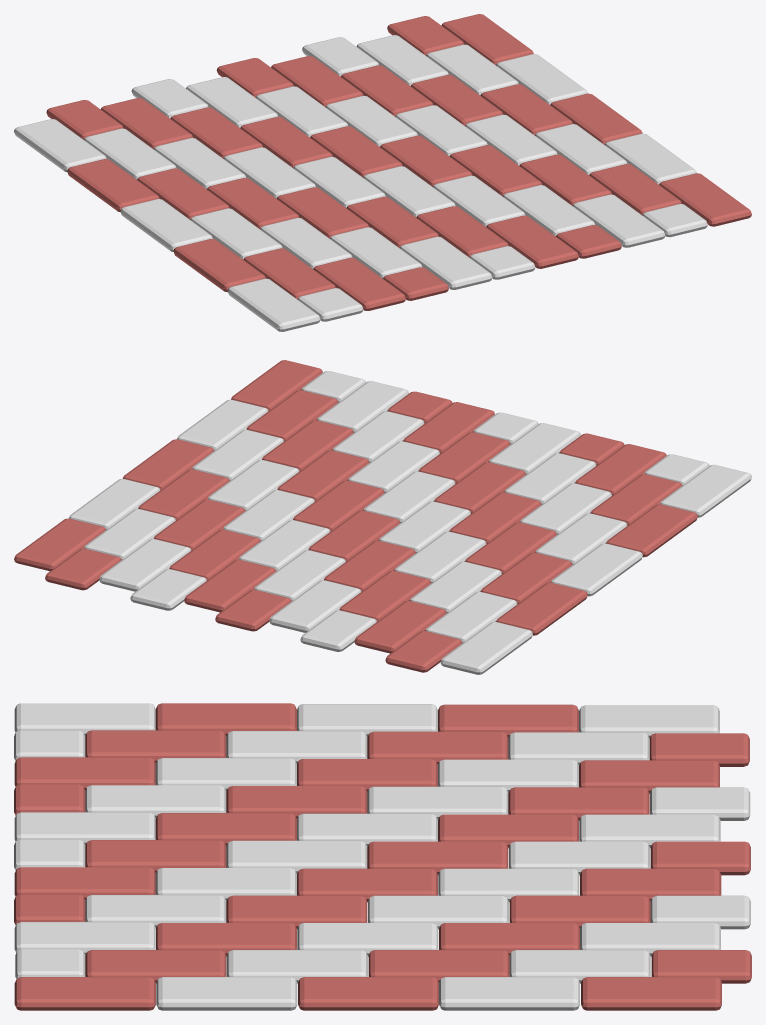
Rendered from floor03.fbx.
3 renders of one model, top to bottom at view 1: azimuth 30°, elevation 25°; view 2: azimuth 150°, elevation 25°; view 3: azimuth 270°, elevation 25°, orthographic. The views are drawn at different scales.
Visible parts, largest first — view 1: Plane.001, Plane.006, Plane.007, Plane.002, Plane.008, Plane.003, Plane.009, Plane.004, Plane.010, Plane.005; view 2: Plane.001, Plane.006, Plane.002, Plane.007, Plane.003, Plane.008, Plane.004, Plane.009, Plane.005, Plane.010; view 3: Plane.001, Plane.006, Plane.002, Plane.007, Plane.003, Plane.008, Plane.004, Plane.009, Plane.005, Plane.010.
Boxes of the visible parts, x1,y1,x2,y2 form: Plane.001: (46, 98, 751, 226); Plane.006: (14, 119, 707, 247); Plane.007: (67, 159, 621, 268); Plane.002: (131, 77, 696, 184); Plane.008: (120, 199, 535, 289); Plane.003: (216, 56, 642, 144); Plane.009: (173, 239, 448, 310); Plane.004: (302, 35, 588, 104); Plane.010: (227, 278, 363, 331); Plane.005: (387, 14, 533, 65); Plane.001: (231, 360, 462, 672); Plane.006: (302, 371, 532, 674); Plane.002: (177, 399, 376, 651); Plane.007: (388, 391, 587, 635); Plane.003: (122, 439, 291, 631); Plane.008: (473, 412, 642, 596); Plane.004: (68, 478, 206, 610); Plane.009: (559, 433, 697, 557); Plane.005: (14, 518, 121, 590); Plane.010: (644, 454, 751, 517); Plane.001: (14, 733, 749, 1010); Plane.006: (14, 705, 719, 978); Plane.002: (156, 787, 750, 1010); Plane.007: (14, 704, 578, 925); Plane.003: (298, 841, 750, 1010); Plane.008: (14, 704, 437, 870); Plane.004: (439, 895, 750, 1010); Plane.009: (14, 703, 296, 815); Plane.005: (581, 950, 751, 1010); Plane.010: (14, 703, 155, 760).
Size of the model in its own units: 808 by 14.49 by 837.
